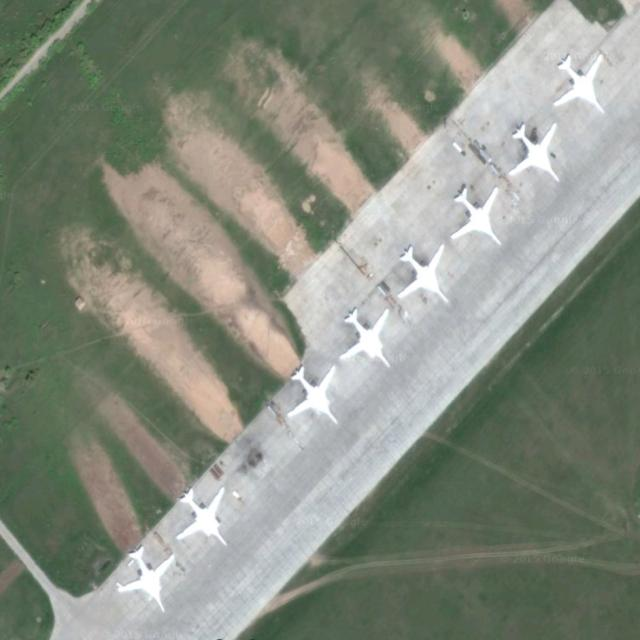MIL_Plane: (107, 545, 164, 613), (552, 54, 606, 115), (396, 242, 449, 304), (286, 363, 338, 425), (450, 186, 502, 247), (508, 121, 560, 182), (339, 306, 390, 368), (175, 487, 227, 547)
